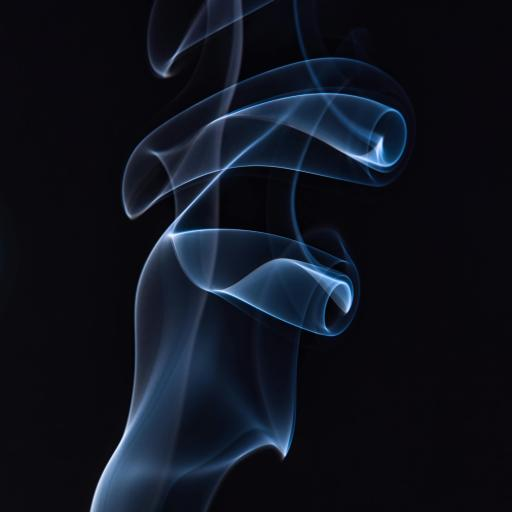smoke: (97, 0, 433, 512)
